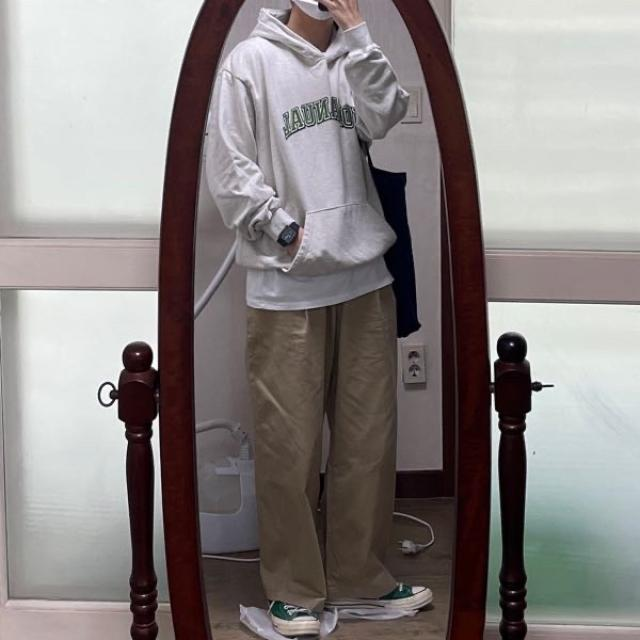cottonpants: (244, 284, 396, 607)
hoodies: (203, 1, 411, 283)
